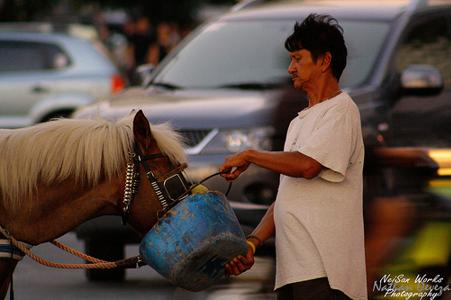person: (220, 14, 369, 300)
